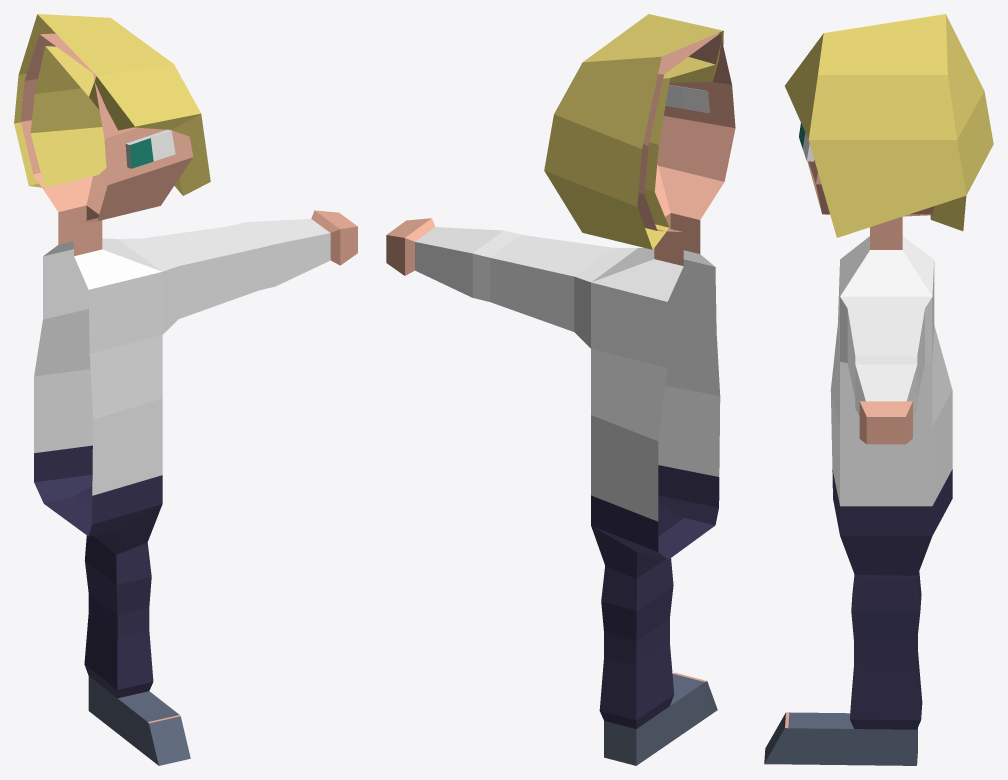
3 views of the same model, side by side, from view 1: azimuth 30°, elevation 25°; view 2: azimuth 150°, elevation 25°; view 3: azimuth 270°, elevation 25° (orthographic). The views are drawn at different scales.
Parts seen in each view (by area): view 1: Cube, Cube.001; view 2: Cube, Cube.001; view 3: Cube, Cube.001.
Boxes of the visible parts, box(x1,y1,x2,y2) form: Cube: box(21, 33, 357, 765); Cube.001: box(14, 14, 210, 195); Cube: box(386, 33, 735, 765); Cube.001: box(544, 14, 723, 249); Cube: box(764, 123, 952, 765); Cube.001: box(785, 14, 993, 237).
Size of the model in its own units: 0.8722 by 2.06 by 0.5961.
Materials: 1 (1 with a texture image).
